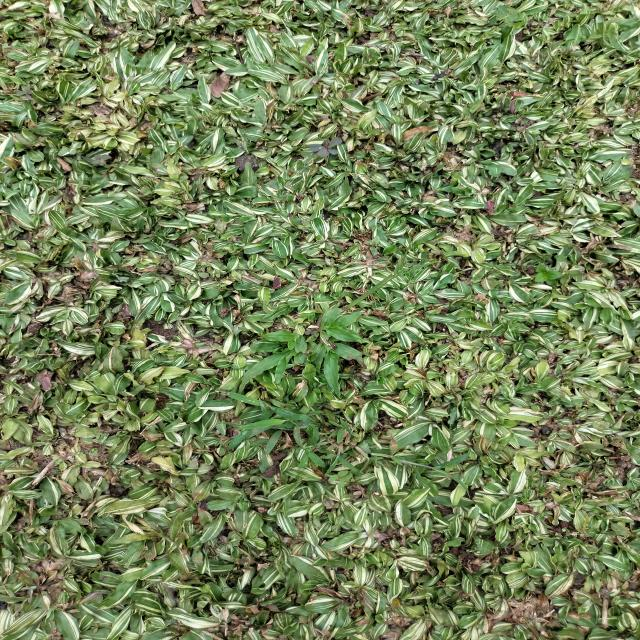buah daun: (308, 136, 343, 159), (495, 4, 520, 24), (81, 153, 113, 167)
rambat atas: (221, 398, 327, 446), (387, 451, 476, 499), (329, 420, 384, 476), (292, 423, 340, 468)
rambat bawah: (312, 332, 366, 398), (239, 352, 294, 394), (317, 308, 369, 350), (263, 330, 308, 355)
ungu tunggang: (533, 262, 564, 288), (364, 235, 380, 258)
